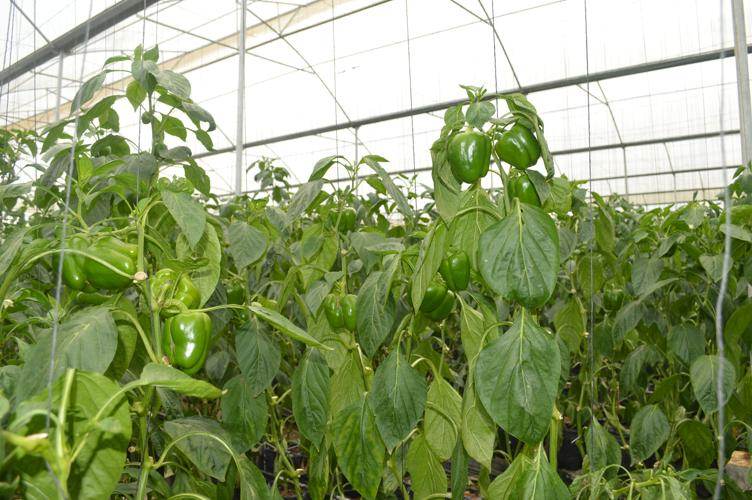BellPepper: (160, 313, 208, 373), (83, 236, 138, 287), (439, 135, 489, 182), (407, 281, 457, 320), (493, 127, 539, 167), (149, 272, 196, 310), (49, 237, 85, 286), (439, 251, 474, 294), (320, 299, 356, 328), (509, 177, 538, 204), (329, 210, 357, 226)
